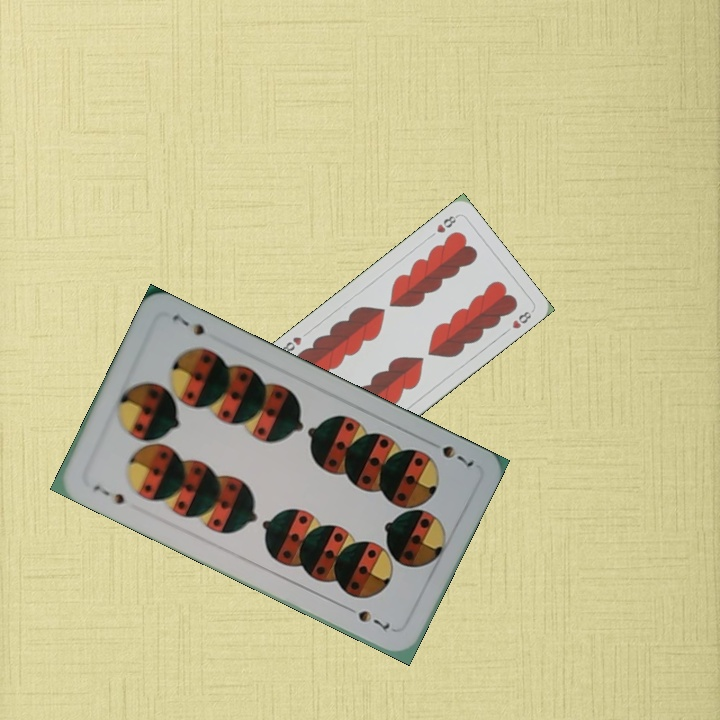H8: (432, 211, 460, 236)
S7: (438, 441, 477, 469), (89, 481, 128, 508)
